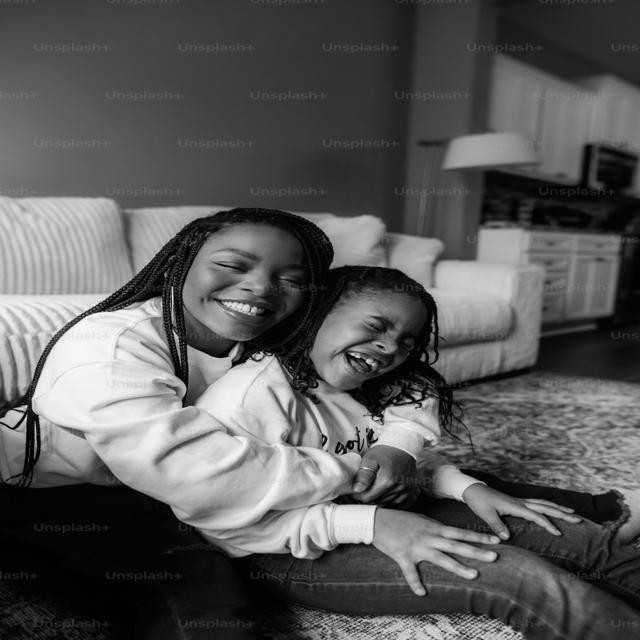Happiness: (180, 225, 308, 344), (311, 293, 432, 390)
